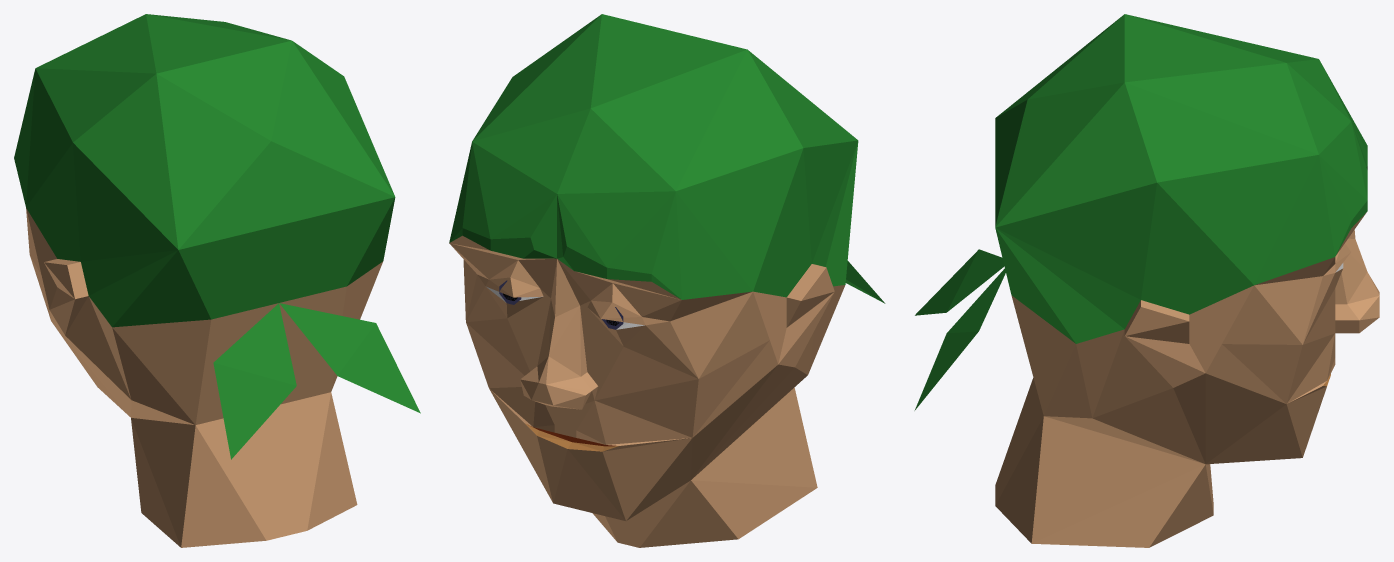
Rendered from npc_chat_pirate_1_0.obj.
The picture shows the model from 3 angles, left to right: view 1: azimuth 30°, elevation 25°; view 2: azimuth 150°, elevation 25°; view 3: azimuth 270°, elevation 25°; orthographic projection. The views are drawn at different scales.
Size of the model in its own units: 0.6875 by 0.9844 by 0.8984.
